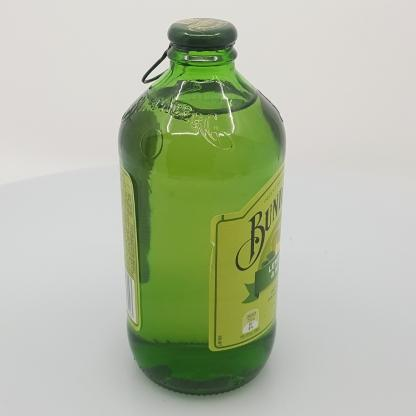------------375ML: (118, 18, 286, 396)
